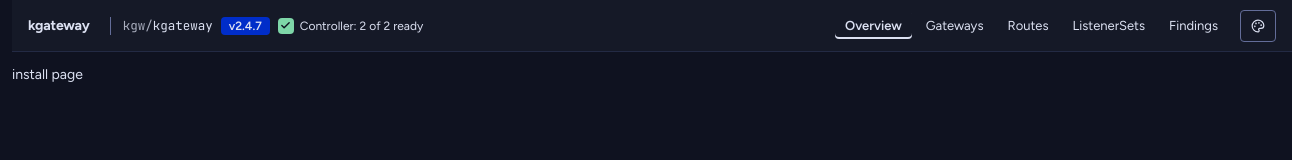
Test: shows the app tooltip on hover and links it to the button
The width and height of the screenshot is (1292, 160).
Hover over the button named "theme": coordinates (1258, 26) [1240,10,1276,42]
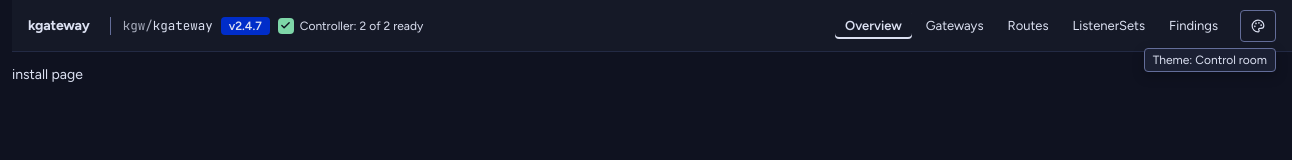
Expected: the tooltip reads "Theme: Control room", [1153,52,1267,66]
